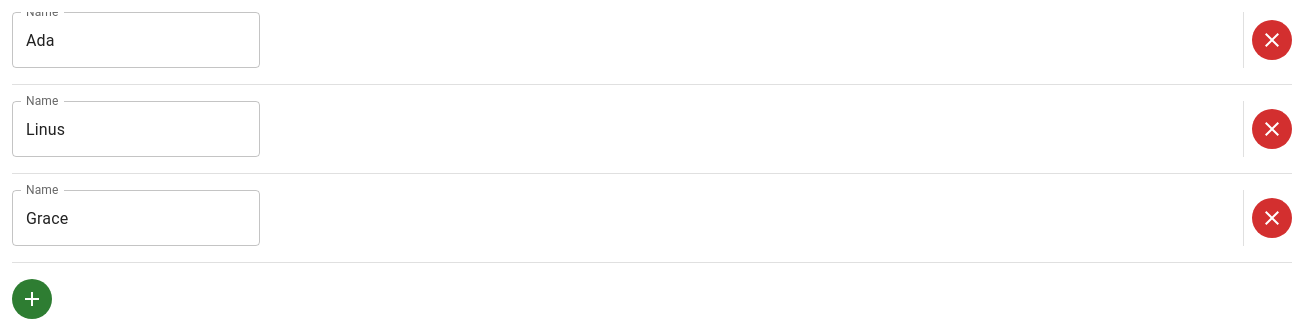
Test: FieldArray › removes the matching entry when its red delete button is clicked
Click the button named "Remove entry 2" at (1272,129), box [1252, 109, 1292, 149]
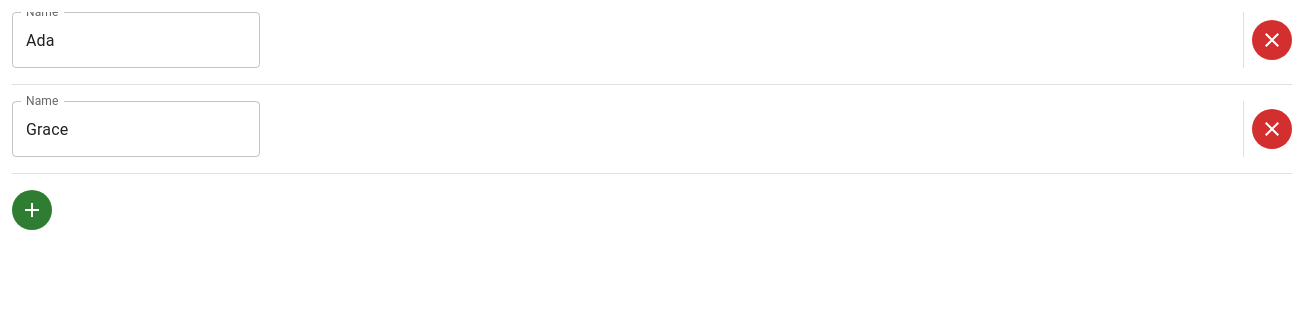
Expected: the number of fields labelled "Name" is 2, [12, 12, 260, 68]; [12, 101, 260, 157]
Result: the 2nd field labelled "Name" holds "Grace" at [12, 101, 260, 157]
